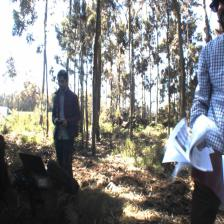trunktrack_idkeyframe: (92, 58, 100, 141)
